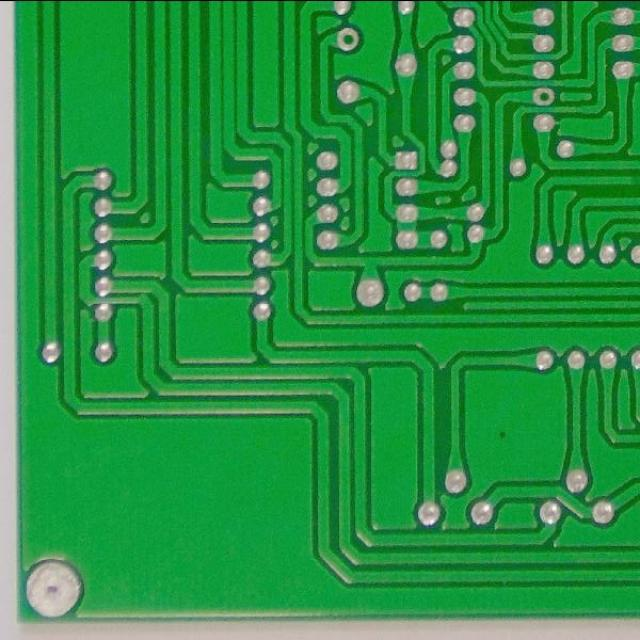missing_hole: (335, 23, 359, 52), (532, 83, 558, 109)
